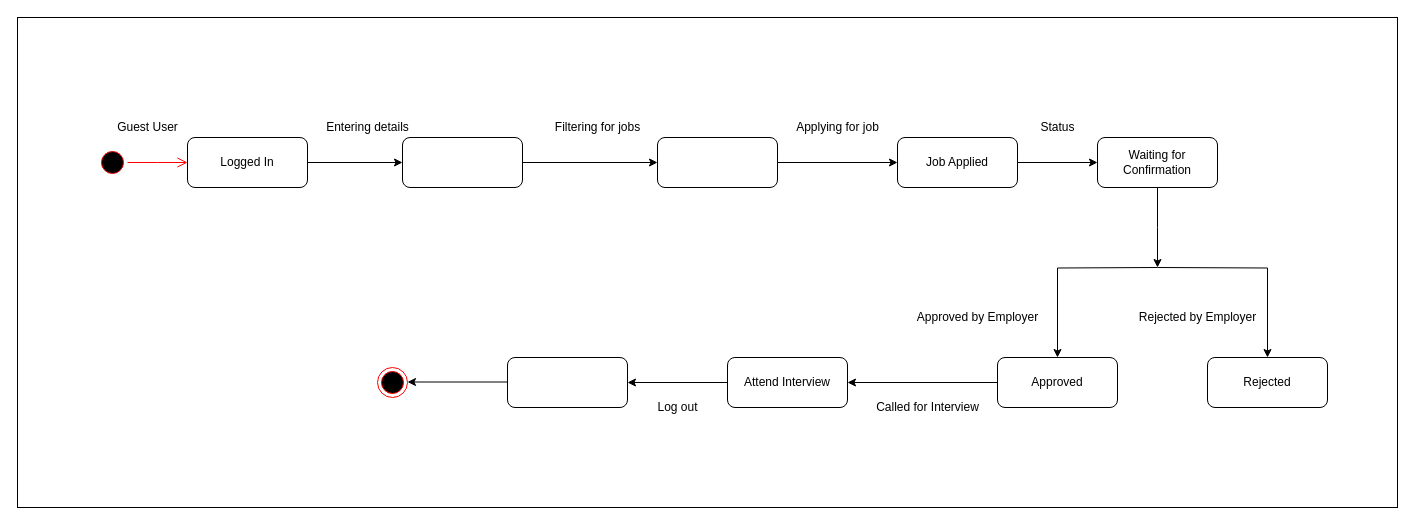
Some shapes in this 1415 by 525 pixel diagram are drawn without their labels. The shapes that lost their labels are listed below. From the top down, each one's box as (x1, y1, x2, y2) in pixels, then its label:
(402, 136, 522, 188): Details/CV Updated/Added
(656, 136, 778, 188): Jobs filtered
(506, 356, 628, 408): Return to HomePage
